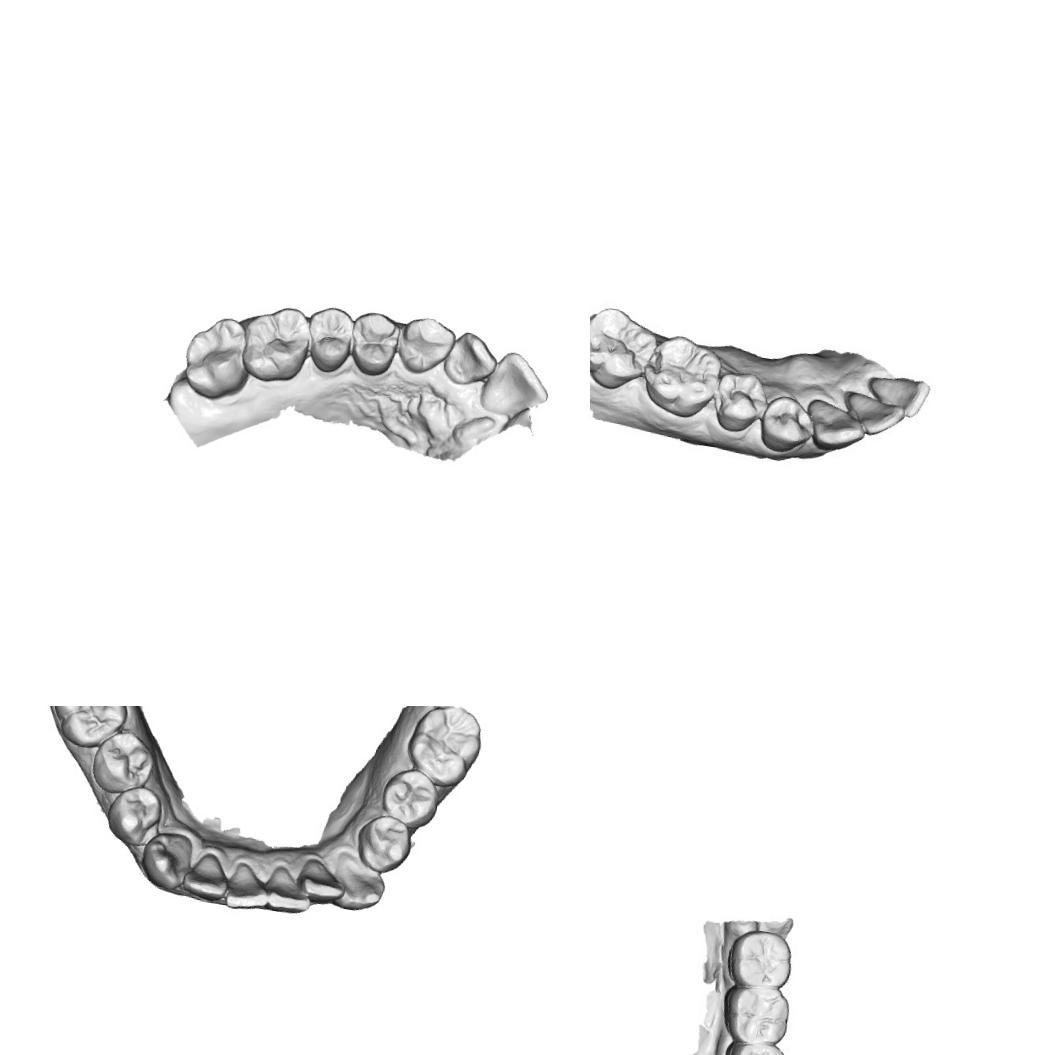canine: (391, 312, 458, 380), (801, 392, 868, 458), (325, 849, 391, 916), (135, 826, 195, 898)
incisor: (476, 346, 556, 424), (438, 325, 504, 392), (860, 368, 931, 420), (840, 390, 910, 441), (178, 847, 236, 907), (220, 856, 274, 918), (259, 861, 316, 919), (294, 853, 349, 907)
molar: (638, 327, 724, 422), (232, 298, 317, 388), (176, 311, 256, 406), (401, 706, 486, 793), (590, 296, 661, 396), (720, 924, 800, 994), (718, 977, 793, 1048), (40, 706, 136, 756)
premolar: (85, 728, 164, 802), (98, 782, 170, 852), (754, 392, 822, 464), (350, 810, 418, 879), (376, 764, 444, 832), (299, 300, 358, 378), (342, 307, 405, 380), (708, 366, 773, 436), (719, 1033, 794, 1055)
